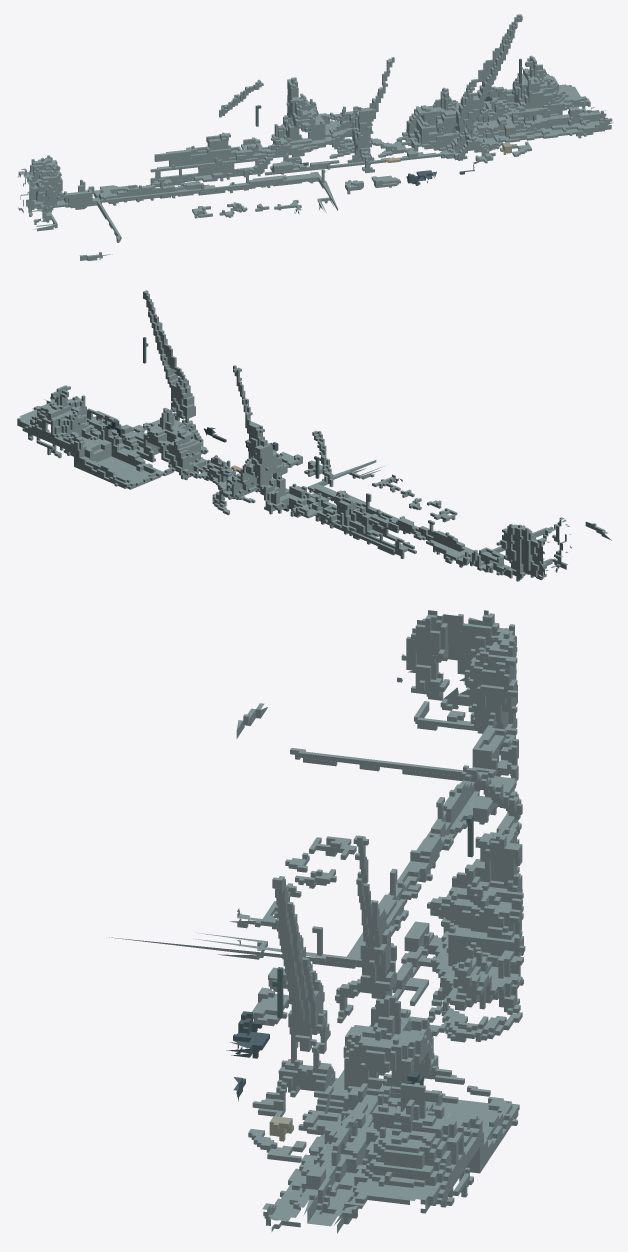
3 views of the same model, one above another, from view 1: azimuth 30°, elevation 25°; view 2: azimuth 150°, elevation 25°; view 3: azimuth 270°, elevation 25° (orthographic). The views are drawn at different scales.
Parts seen in each view (by area): view 1: measured-industrial; view 2: measured-industrial; view 3: measured-industrial.
Boxes of the visible parts, x1,y1,x2,y2 form: measured-industrial: (17, 14, 613, 260); measured-industrial: (17, 290, 611, 581); measured-industrial: (109, 610, 525, 1233).
Size of the model in its own units: 259 by 63.04 by 86.01.
